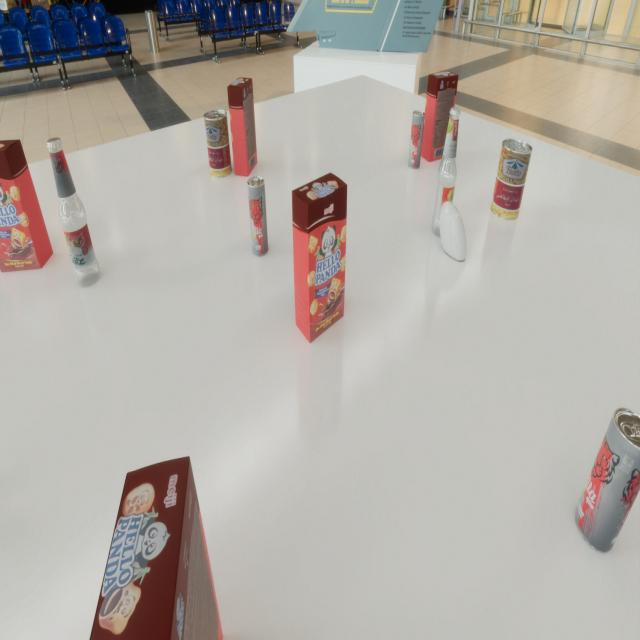Bottle: (46, 137, 100, 287), (431, 107, 460, 237)
HelloPanda: (292, 173, 347, 343), (421, 71, 458, 162), (228, 77, 258, 176)
Potato_sticks: (490, 139, 532, 220), (204, 110, 232, 178)
Rita_zero_sugar: (575, 407, 640, 553), (247, 176, 268, 257), (408, 110, 425, 170)
Salt: (440, 201, 467, 261)
